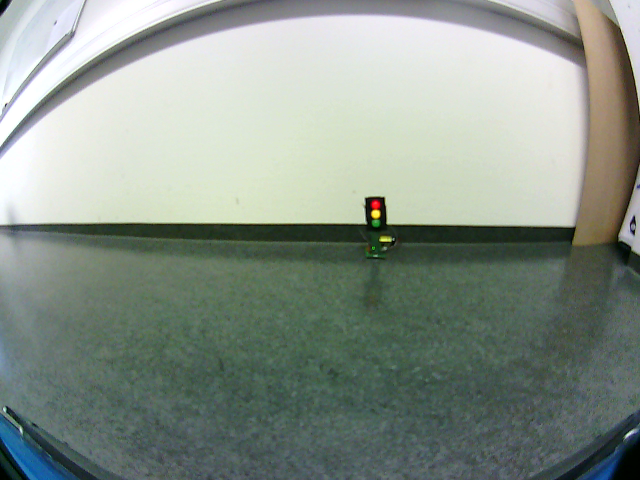red yellow trafficlight: (367, 198, 386, 227)
